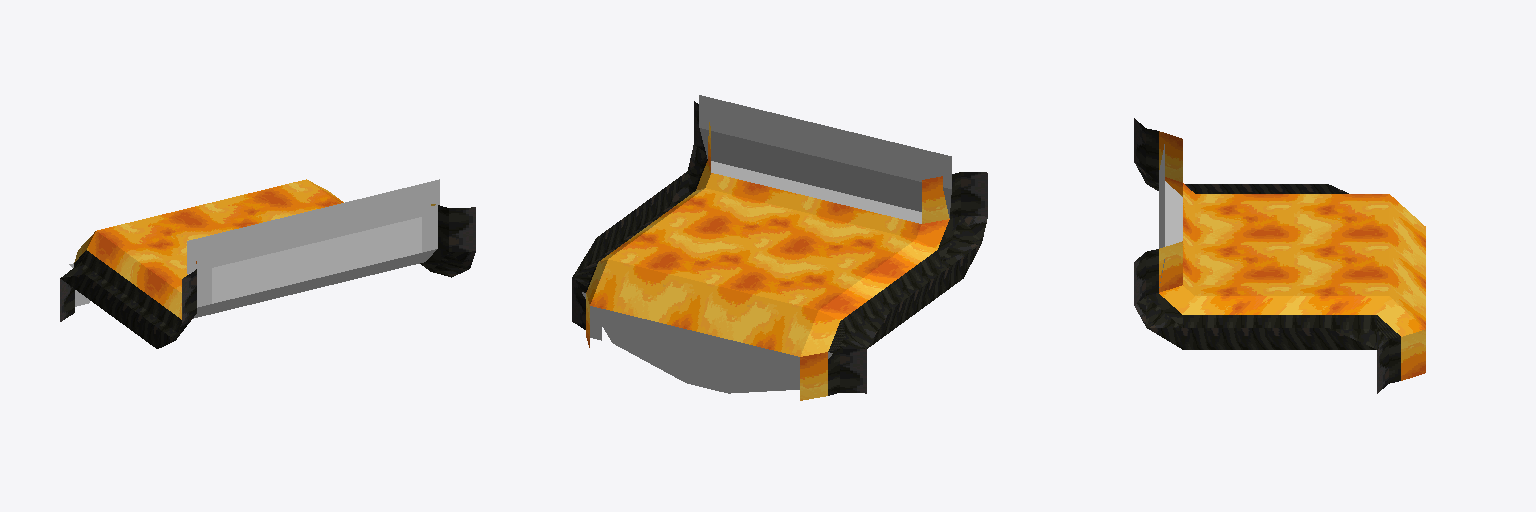
The picture shows the model from 3 angles: view 1: azimuth 30°, elevation 25°; view 2: azimuth 150°, elevation 25°; view 3: azimuth 270°, elevation 25°; orthographic projection.
Parts seen in each view (by area): view 1: map; view 2: map; view 3: map.
Boxes of the visible parts, <box> form: map: <box>60,179,475,348</box>; map: <box>572,95,987,400</box>; map: <box>1134,118,1425,393</box>.
Bounding box in the file's own units: 7 × 4 × 6.
10 materials, 4 textured.